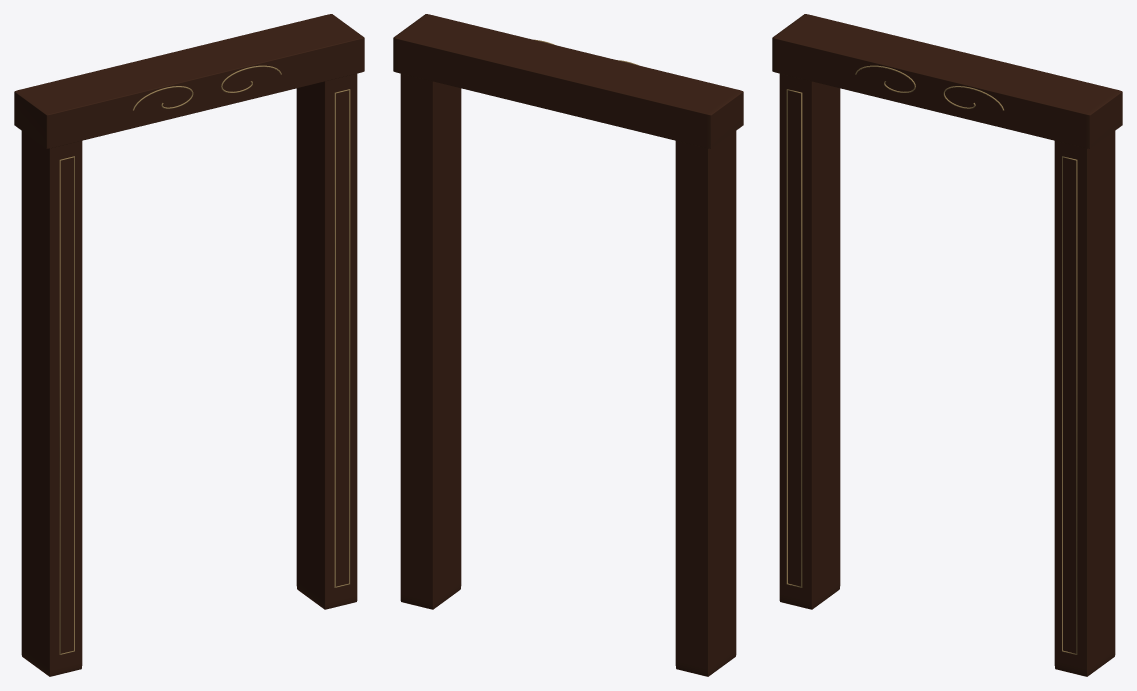
The model's file is Door_Frame.fbx.
3 views of the same model, side by side, from view 1: azimuth 30°, elevation 25°; view 2: azimuth 150°, elevation 25°; view 3: azimuth 330°, elevation 25° (orthographic).
Visible parts, largest first — view 1: Door jamb.002, Door jamb.003, Door lintel.001, Panel moulding.115, Panel moulding.114; view 2: Door jamb.002, Door jamb.003, Door lintel.001; view 3: Door jamb.003, Door jamb.002, Door lintel.001, Panel moulding.114, Panel moulding.115.
Boxes of the visible parts, x1,y1,x2,y2 form: Door jamb.002: [21, 131, 82, 676]; Door jamb.003: [296, 73, 357, 609]; Door lintel.001: [14, 14, 364, 148]; Panel moulding.115: [334, 89, 350, 587]; Panel moulding.114: [59, 156, 74, 654]; Door jamb.002: [675, 131, 736, 676]; Door jamb.003: [400, 73, 461, 609]; Door lintel.001: [393, 14, 743, 148]; Door jamb.003: [1054, 131, 1115, 676]; Door jamb.002: [779, 73, 840, 609]; Door lintel.001: [772, 14, 1122, 148]; Panel moulding.114: [786, 89, 802, 587]; Panel moulding.115: [1062, 156, 1077, 654].
Size of the model in its own units: 1.55 by 2.63 by 0.293.
